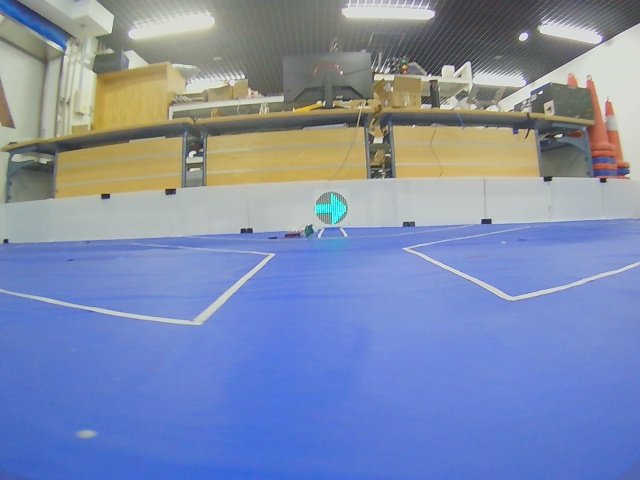right_green: (315, 192, 348, 225)
